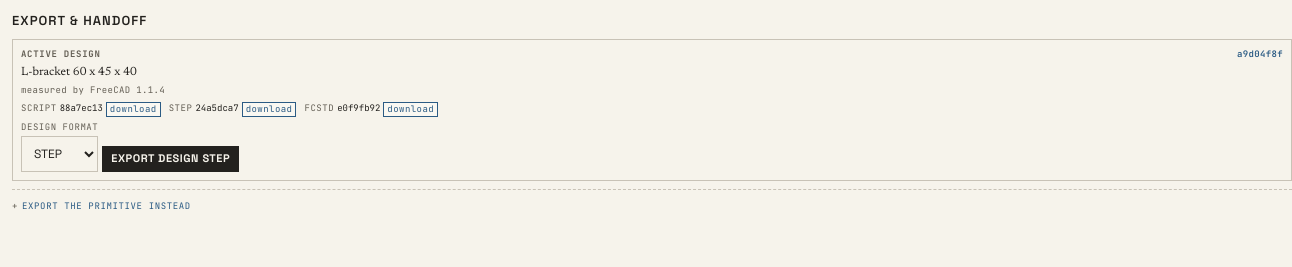
Scenario: ExportPanel — active design › shows no digest when the backend reported none
Click the button with class "export-panel-design-button": (171, 159) top-left (102, 146), bottom-right (239, 172)
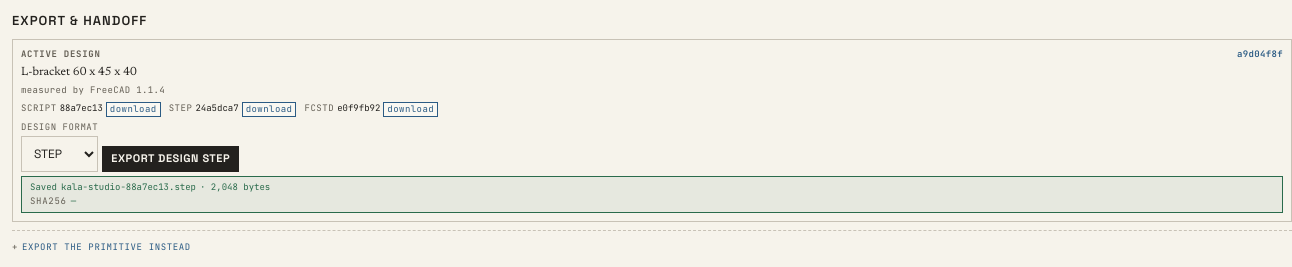
Now the message "Saved kala-studio-88a7ec13.step · 2,048 bytes sha256 —" is shown, box top-left (21, 176), bottom-right (1283, 213)
Now the text with class "export-panel-receipt-digest" reads "—", box top-left (71, 195), bottom-right (76, 207)
